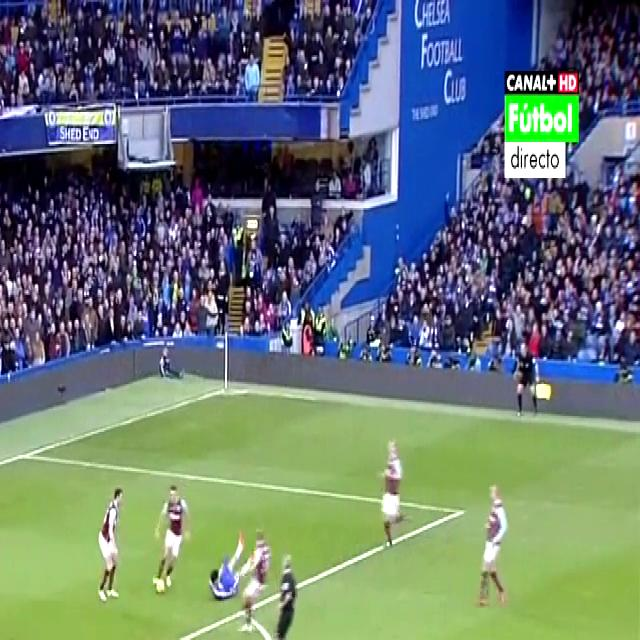ball: (148, 568, 173, 602)
referee: (508, 314, 544, 428), (265, 544, 301, 640)
soccer-player: (471, 473, 516, 614), (150, 469, 193, 601), (91, 472, 129, 611), (209, 515, 259, 618), (374, 422, 410, 554), (232, 524, 273, 636)
